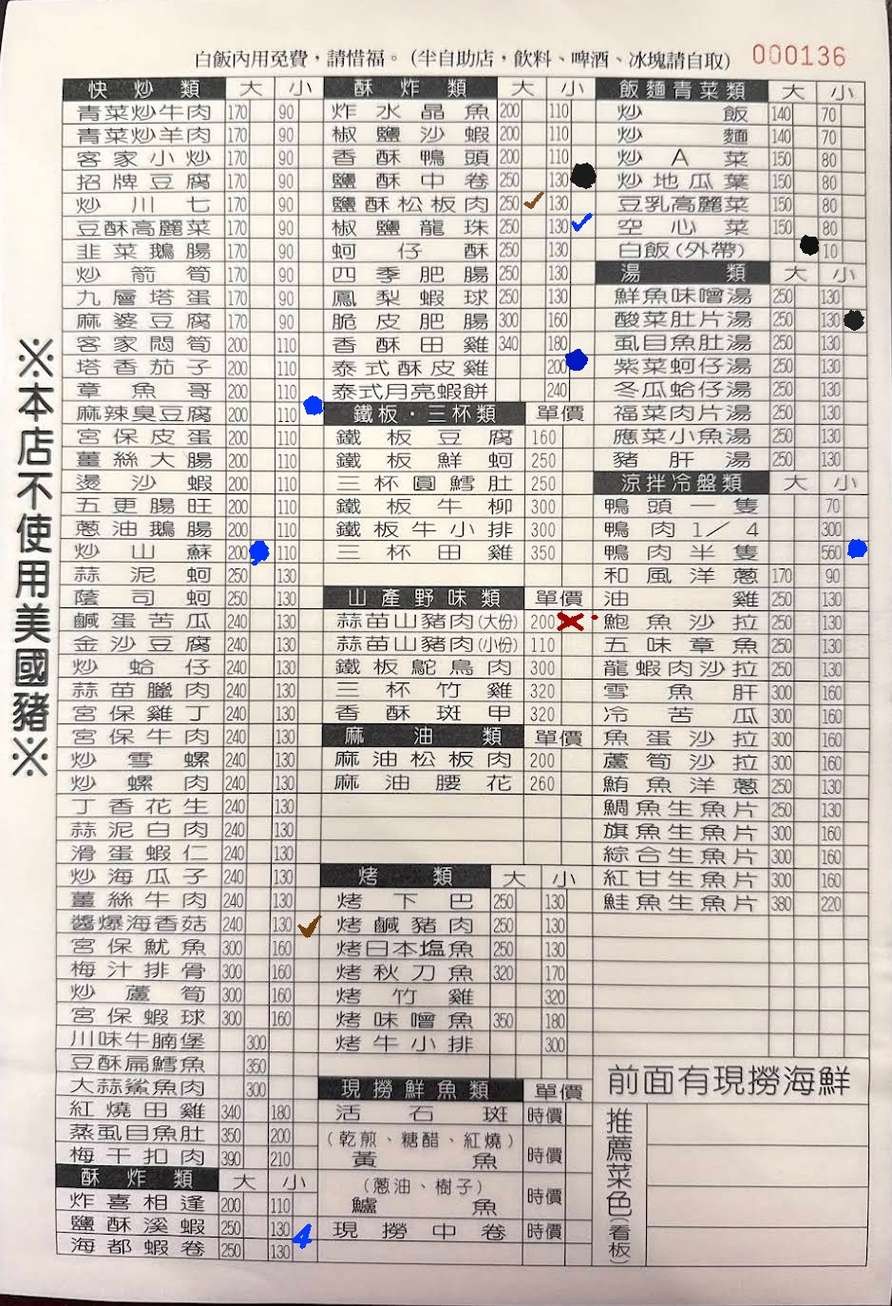marked_circle: (297, 404, 323, 427), (571, 169, 597, 192), (249, 540, 275, 563), (843, 541, 868, 564), (842, 309, 867, 332), (571, 355, 597, 377), (794, 238, 820, 260)
marked_number_4: (293, 1216, 318, 1239)
marked_tick: (570, 216, 596, 239), (294, 912, 319, 935), (522, 191, 547, 214)
marked_x: (560, 610, 593, 633)
